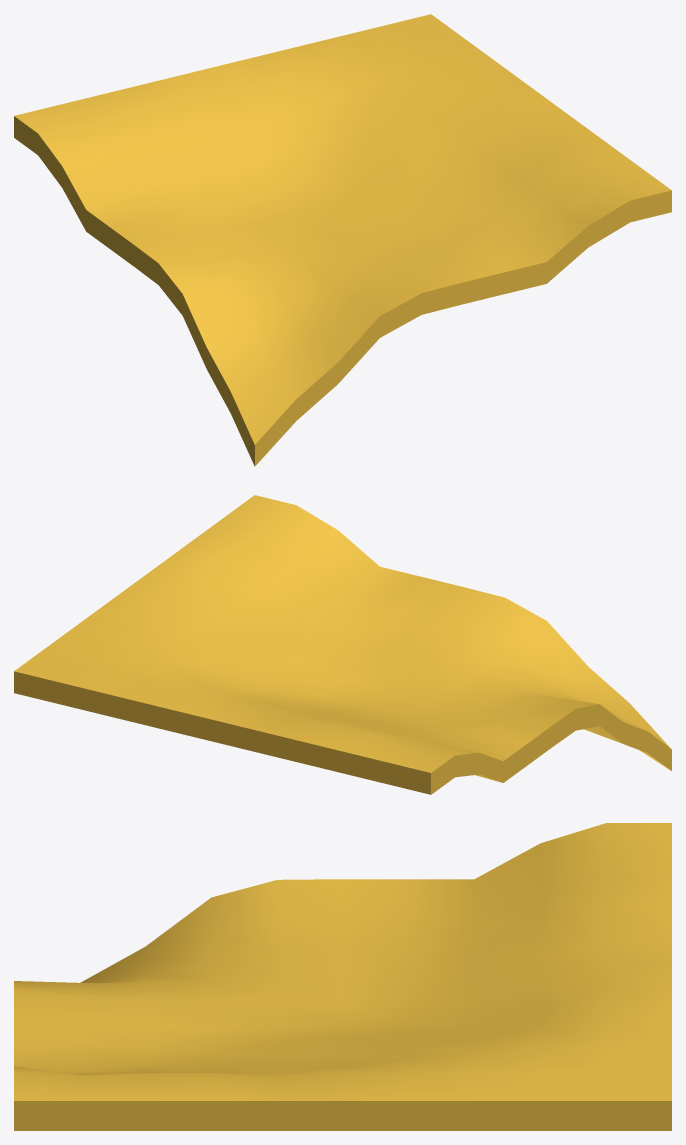
File: Flach - Mitte - Ecke Invertiert b - b.fbx
The picture shows the model from 3 angles, top to bottom: view 1: azimuth 30°, elevation 25°; view 2: azimuth 150°, elevation 25°; view 3: azimuth 270°, elevation 25°; orthographic projection. The views are drawn at different scales.
Parts seen in each view (by area): view 1: Flach - Mitte - Ecke Invertiert b - b; view 2: Flach - Mitte - Ecke Invertiert b - b; view 3: Flach - Mitte - Ecke Invertiert b - b.
Part boxes in pixels (<box>): Flach - Mitte - Ecke Invertiert b - b: <box>14,14,671,466</box>; Flach - Mitte - Ecke Invertiert b - b: <box>14,495,671,794</box>; Flach - Mitte - Ecke Invertiert b - b: <box>14,823,671,1130</box>.
Size of the model in its own units: 394 by 157 by 394.
